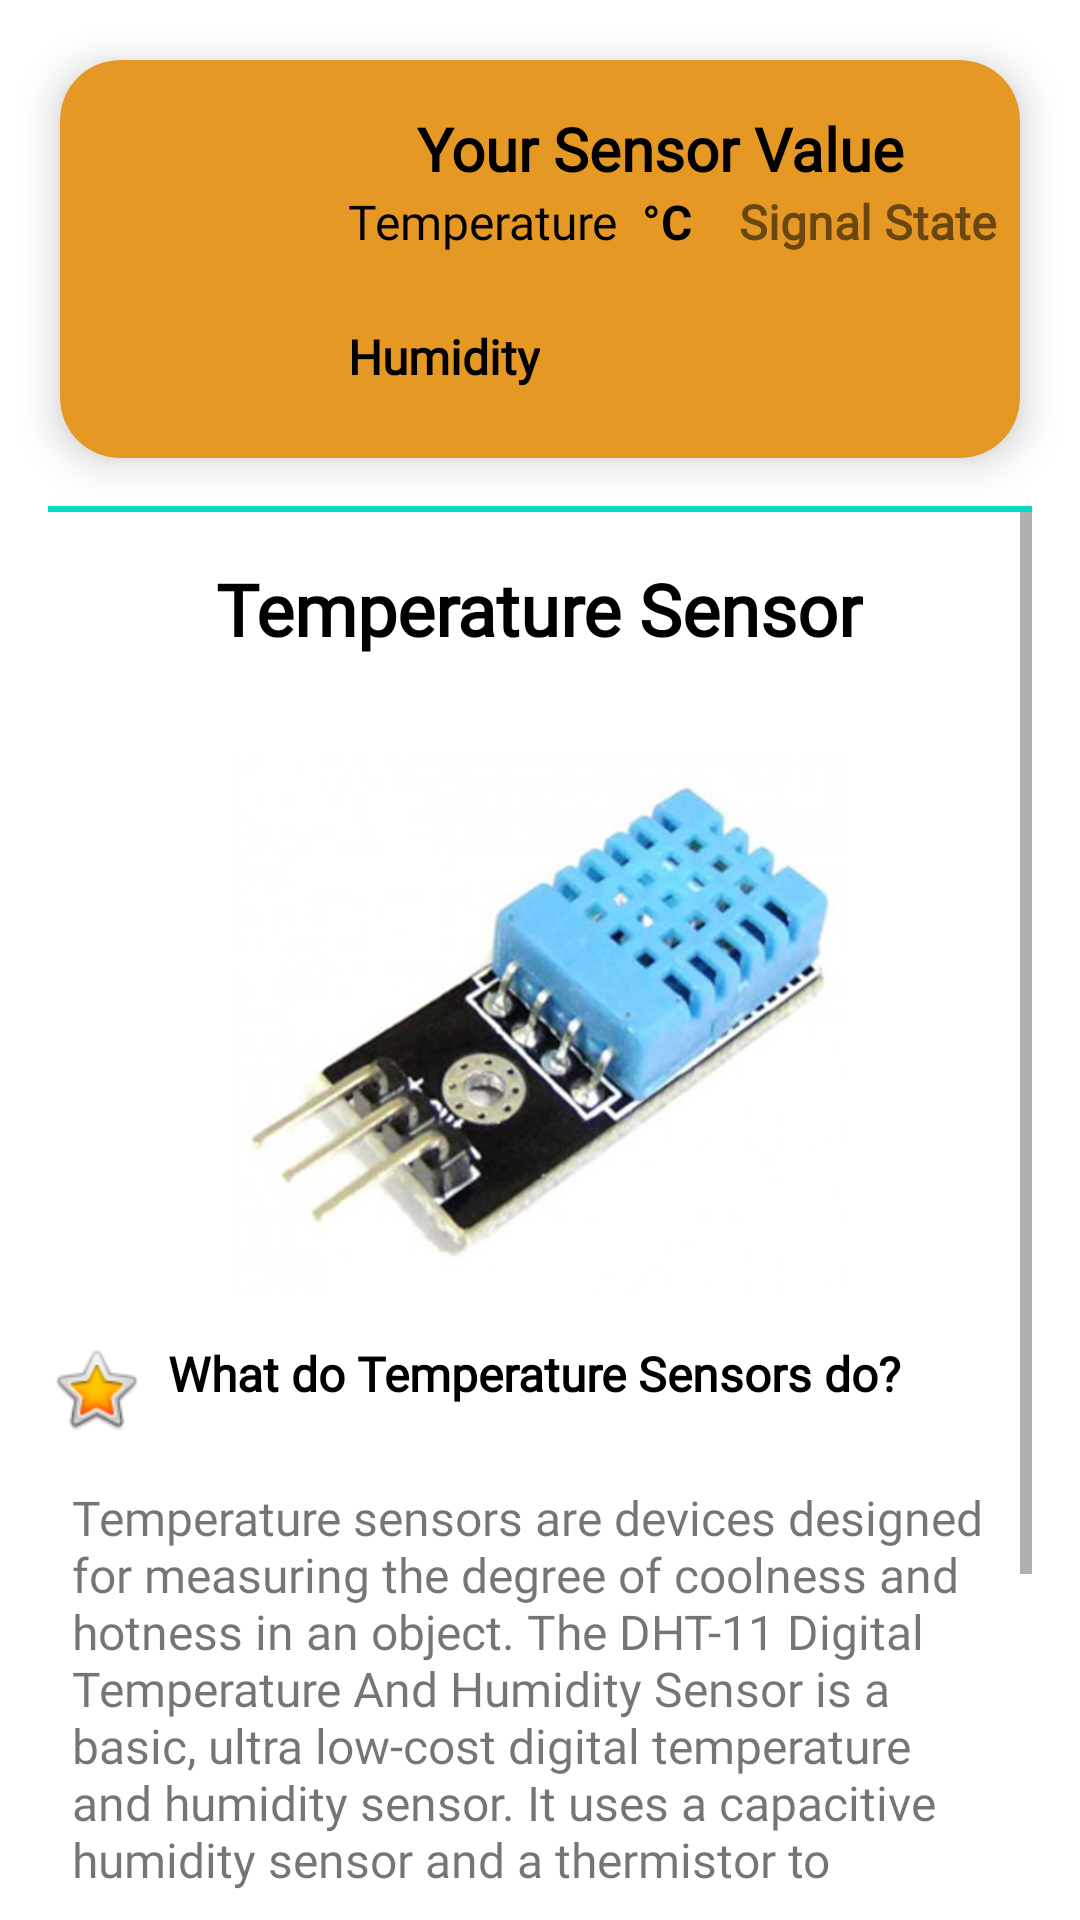

Screen size 1080x1920. Icon name, then its box in pixels as (x1, y1, x2, y2):
star on: (57, 1351, 137, 1429)
